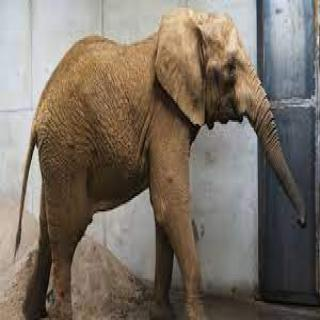Elephant: (13, 2, 310, 318)
